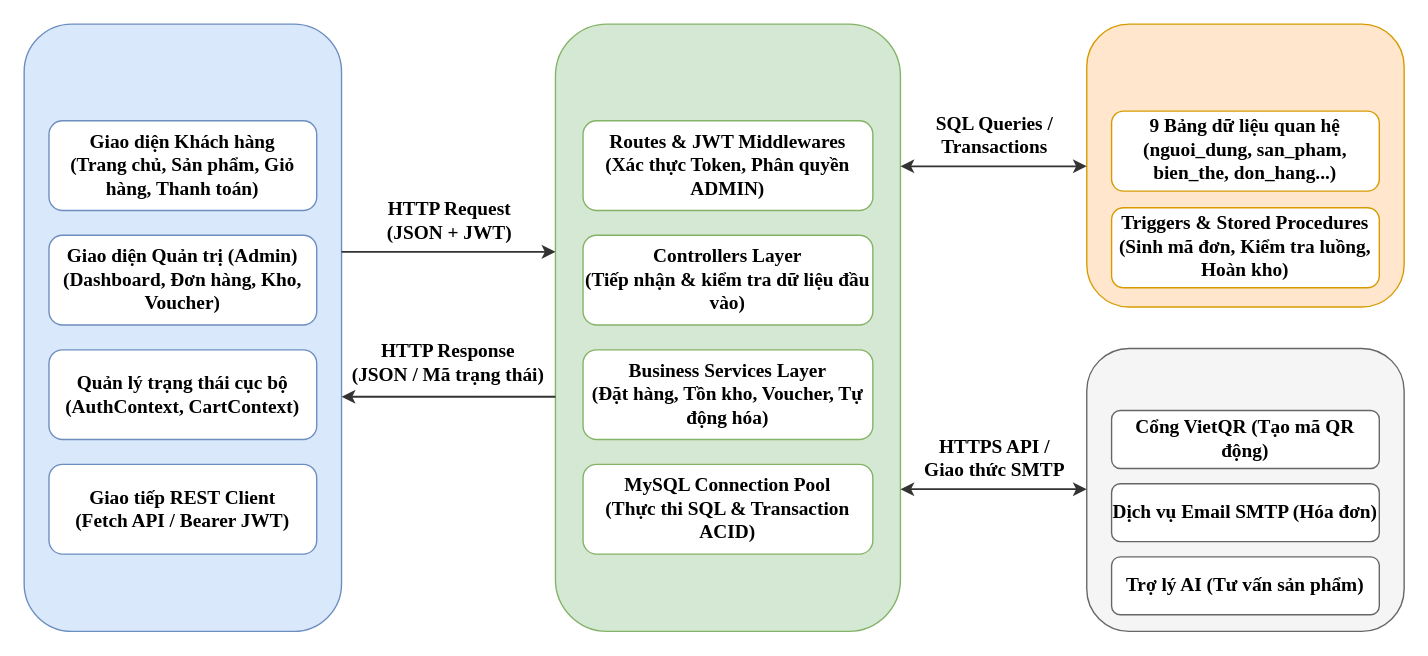
This 1428x656 diagram has some shape labels left out. The box of each missing label's shape, as (x1, y1, x2, y2) in pixels:
Dịch vụ tích hợp bên ngoài: (1085, 347, 1404, 631)
Tầng Dữ liệu (Database) MySQL (ShopThoiTrangDB): (1085, 23, 1404, 307)
Tầng Nghiệp vụ (Backend) Node.js & ExpressJS REST API: (554, 23, 900, 631)
Tầng Trình diễn (Frontend) ReactJS SPA: (23, 23, 342, 631)
